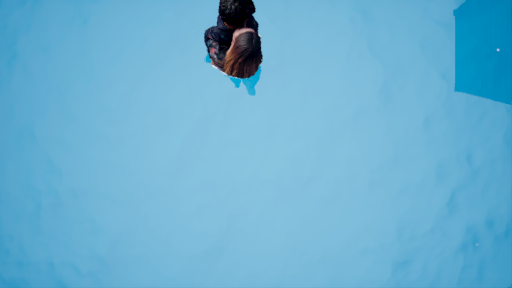person: (204, 6, 268, 90)
